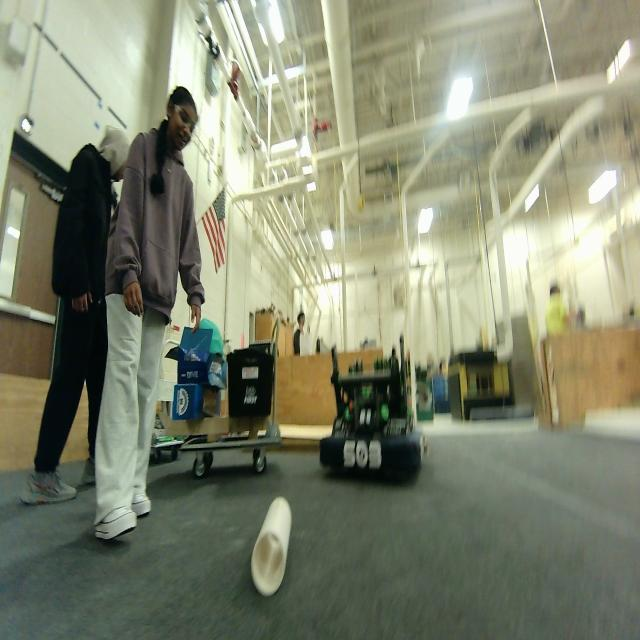coral: (251, 496, 292, 596), (285, 426, 324, 443)
